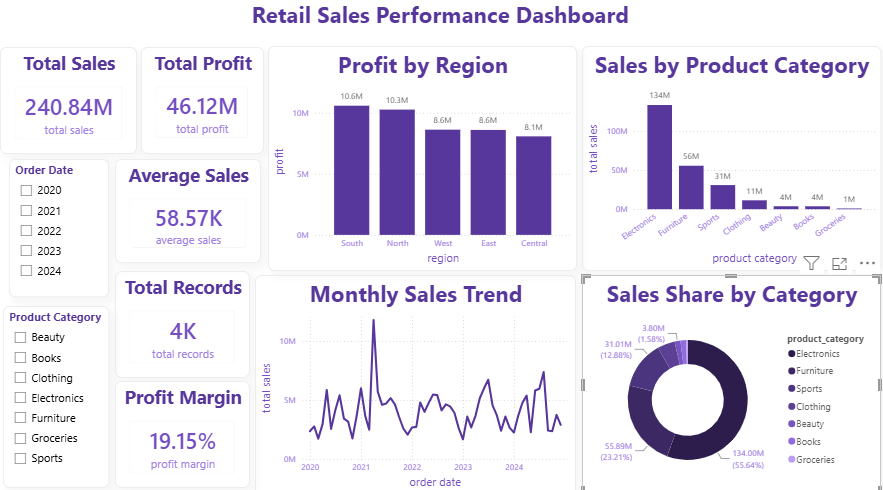

This screenshot's page, from the dashboard's own definition file:
{"tool":"powerbi","page":{"name":"Page 1","canvas":[1280,720],"ordinal":0},"visuals":[{"type":"textbox","box":[0,0,1280,63.4],"z":0},{"type":"cardVisual","title":"Total Sales","fields":{"Data":["Sales.total sales"]},"box":[2.9,74.9,203,154.1],"z":1000},{"type":"cardVisual","title":"Total Records","fields":{"Data":["Sales.total records"]},"box":[171.4,397.4,194.4,154.1],"z":2000},{"type":"cardVisual","title":"Total Profit","fields":{"Data":["Sales.total profit"]},"box":[207.4,74.9,182.9,154.1],"z":3000},{"type":"clusteredColumnChart","title":"Sales by Product Category","fields":{"Y":["Sales.total sales"],"Category":["Sales.product_category"]},"box":[843.8,73.4,430.6,324],"z":4000},{"type":"lineChart","title":"Monthly Sales Trend","fields":{"Y":["Sales.total sales"],"Category":["Sales.order_date.Variation.Date Hierarchy.Year","Sales.order_date.Variation.Date Hierarchy.Month"]},"box":[373,403.2,462.2,316.8],"z":5000},{"type":"donutChart","title":"Sales Share by Category","fields":{"Y":["Sales.total sales"],"Category":["Sales.product_category"]},"box":[843.8,403.2,430.6,316.8],"z":6000},{"type":"slicer","title":"Product Category","fields":{"Values":["Sales.product_category"]},"box":[10.1,447.8,152.6,262.1],"z":7000},{"type":"slicer","title":"Order Date","fields":{"Values":["Sales.order_date.Variation.Date Hierarchy.Year"]},"box":[18.7,236.2,144,198.7],"z":8000},{"type":"cardVisual","title":"Average Sales","fields":{"Data":["Sales.average sales"]},"box":[171.4,236.2,210.2,149.8],"z":9000},{"type":"cardVisual","title":"Profit Margin","fields":{"Data":["Sales.profit margin"]},"box":[171.4,555.8,194.4,154.1],"z":10000},{"type":"clusteredColumnChart","title":"Profit by Region","fields":{"Category":["Sales.region"],"Y":["Sum(Sales.profit)"]},"box":[391.7,73.4,445,324],"z":10001}]}

Visuals, with their boxes in screenshot pixels (x1, y1, x2, y2), scaled from the page's 1280x720 canvas onto the 883x490 screenshot:
textbox: (0,0,882,43)
"Total Sales" cardVisual: (2,51,142,156)
"Total Records" cardVisual: (118,270,252,375)
"Total Profit" cardVisual: (143,51,269,156)
"Sales by Product Category" clusteredColumnChart: (582,50,879,270)
"Monthly Sales Trend" lineChart: (257,274,576,489)
"Sales Share by Category" donutChart: (582,274,879,489)
"Product Category" slicer: (7,305,112,483)
"Order Date" slicer: (13,161,112,296)
"Average Sales" cardVisual: (118,161,263,263)
"Profit Margin" cardVisual: (118,378,252,483)
"Profit by Region" clusteredColumnChart: (270,50,577,270)
